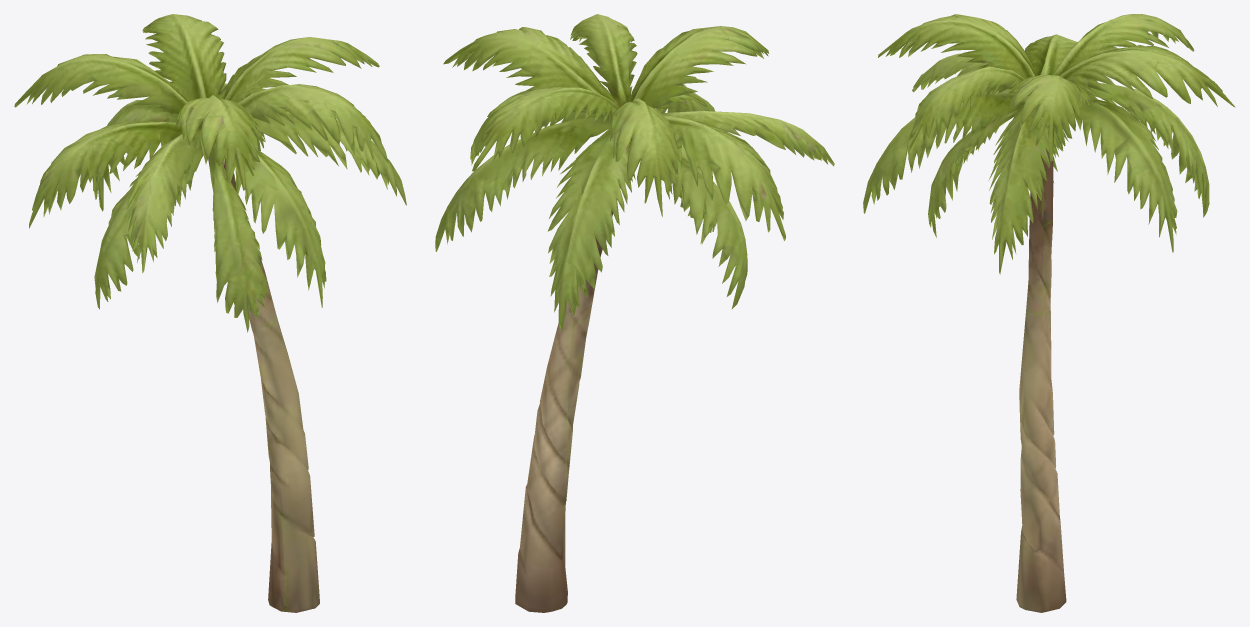
File: date-palm.glb
3 renders of one model, left to right at view 1: azimuth 30°, elevation 25°; view 2: azimuth 150°, elevation 25°; view 3: azimuth 270°, elevation 25°, orthographic. The views are drawn at different scales.
Bounding box in the file's own units: 1.23 × 1.9 × 1.21.
Materials: 1 (1 with a texture image).
